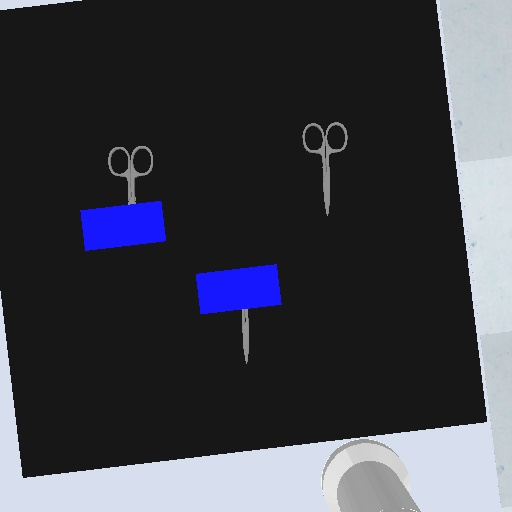tijera: (300, 119, 351, 220), (104, 143, 156, 206), (240, 307, 251, 366)
